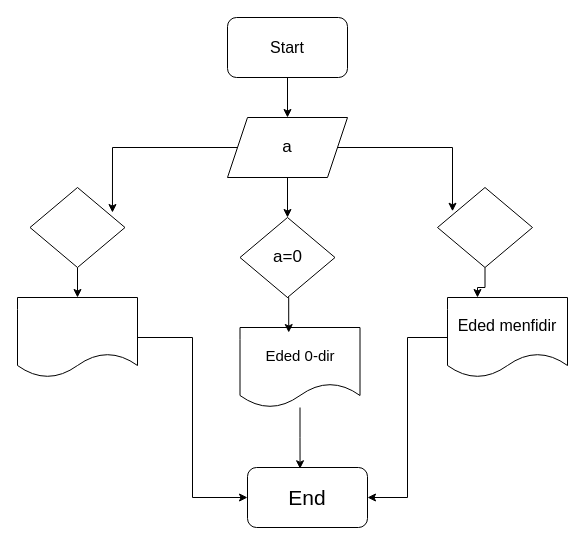
Image size: 585x545. Some labels were removed from this diagram. The centre of each missing label's shape, as x and y in pixels:
a<0: point 484,227
a>0: point 77,227
Eded musbetdir: point 77,337
